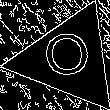O_S: (42, 31, 95, 87)
